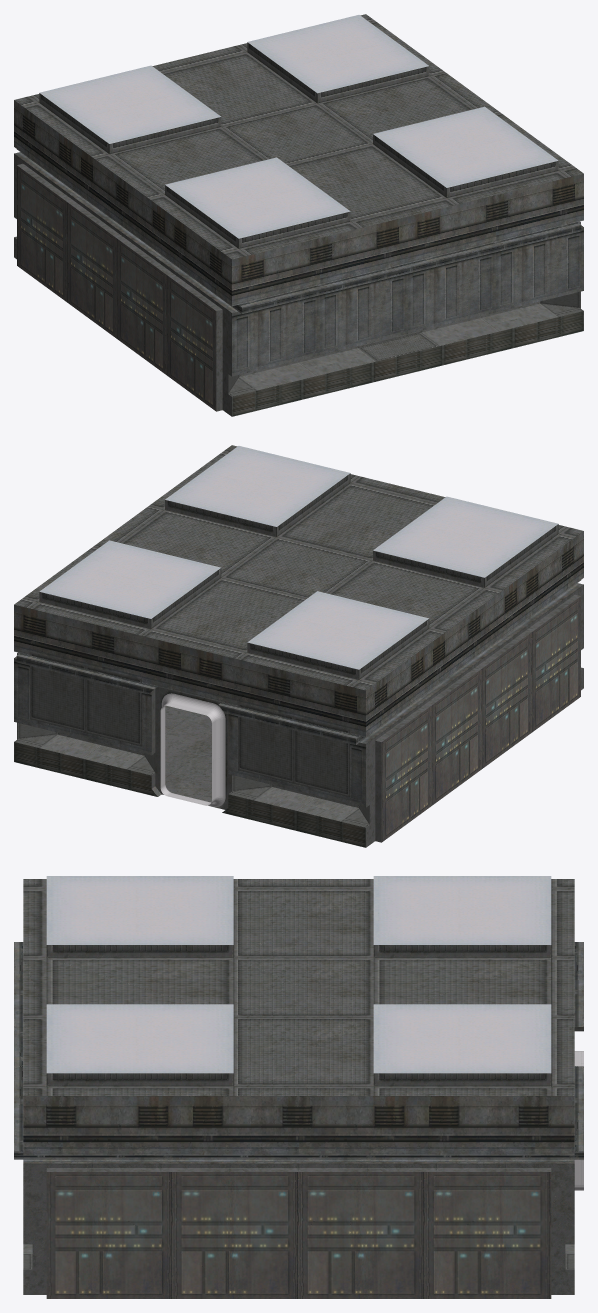
Rendered from thm_spc_corvette_dungeon_r46_radarroom46_mesh_r46.fbx.
The picture shows the model from 3 angles, top to bottom: view 1: azimuth 30°, elevation 25°; view 2: azimuth 150°, elevation 25°; view 3: azimuth 270°, elevation 25°; orthographic projection. The views are drawn at different scales.
Parts seen in each view (by area): view 1: mesh_node; view 2: mesh_node; view 3: mesh_node.
Part boxes in pixels (<box>): mesh_node: <box>14,14,583,416</box>; mesh_node: <box>14,445,583,847</box>; mesh_node: <box>14,876,583,1298</box>.
Size of the model in its own units: 11.4 by 5 by 12.2.
